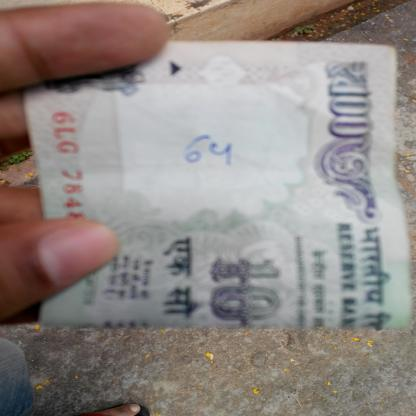Old100Front: (23, 41, 416, 332)
